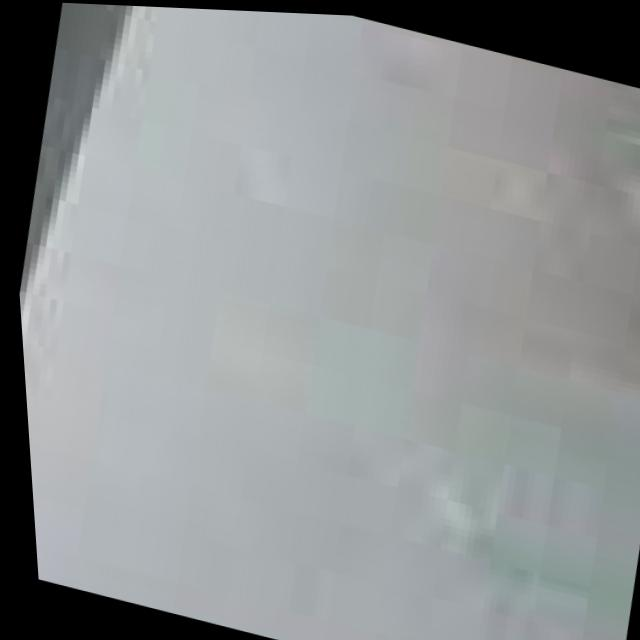metal-plates: (16, 4, 640, 640)
